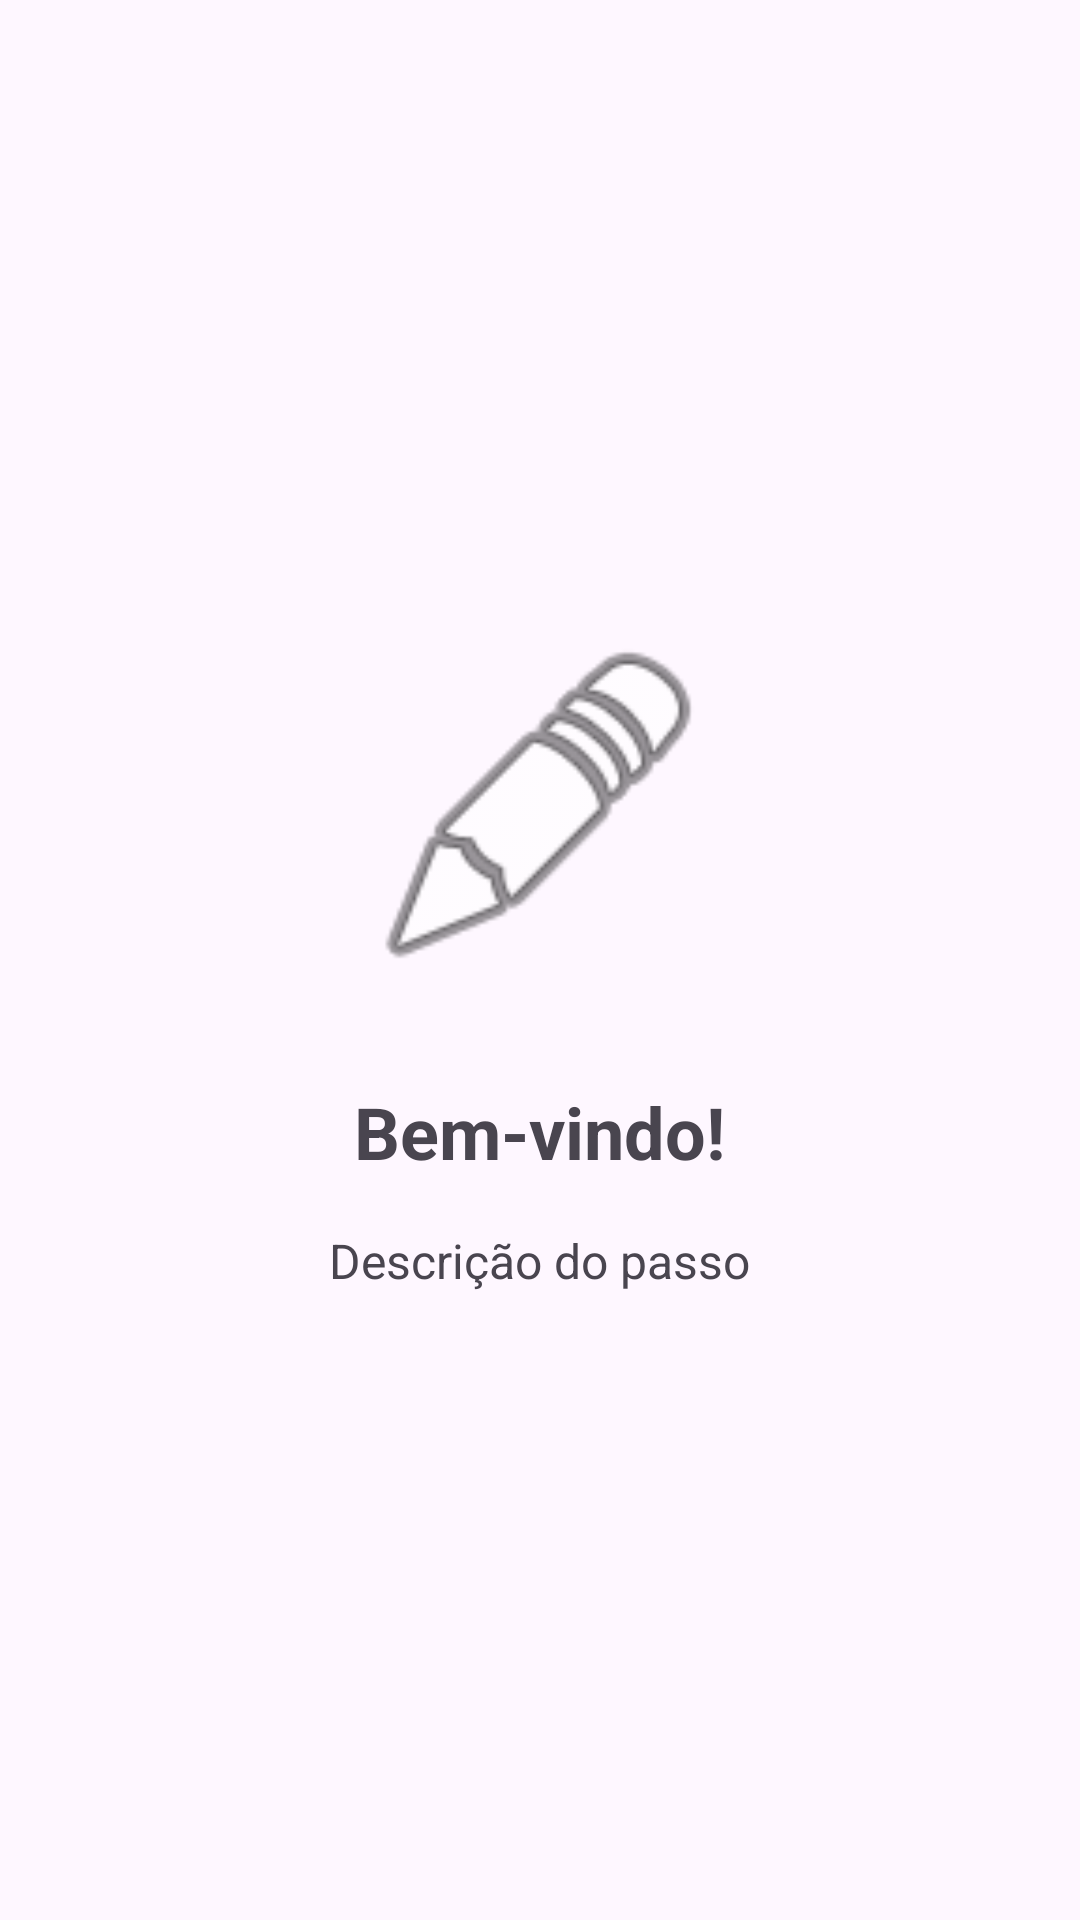

Named icons in this screenshot (1080px x 1920px) and their centers, point (x, y):
edit: point (538, 805)
